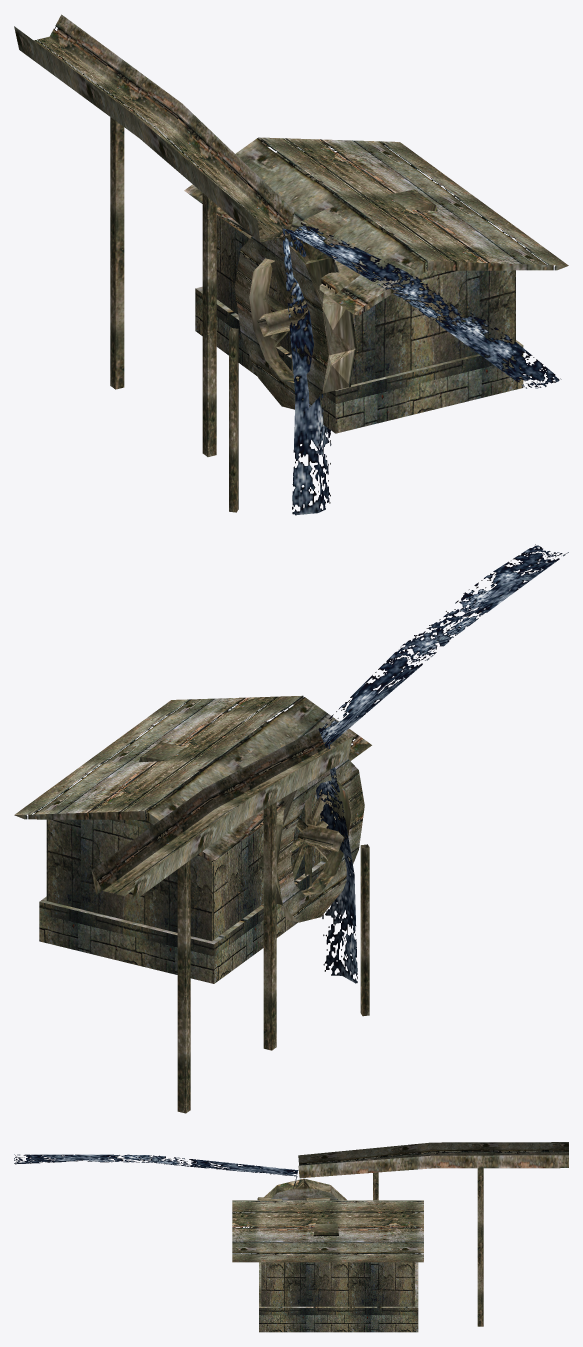
The model's file is House05.obj.
The picture shows the model from 3 angles, top to bottom: view 1: azimuth 30°, elevation 25°; view 2: azimuth 150°, elevation 25°; view 3: azimuth 270°, elevation 25°; orthographic projection. The views are drawn at different scales.
Parts seen in each view (by area): view 1: Mesh_0, Mesh_1, Mesh_2; view 2: Mesh_0, Mesh_1, Mesh_2; view 3: Mesh_0, Mesh_1, Mesh_2.
Part boxes in pixels (x1,y1,x2,y2): Mesh_0: [14, 14, 568, 512]; Mesh_1: [195, 152, 523, 433]; Mesh_2: [282, 223, 561, 515]; Mesh_0: [14, 695, 371, 1113]; Mesh_1: [39, 722, 332, 983]; Mesh_2: [316, 544, 568, 983]; Mesh_0: [232, 1142, 568, 1326]; Mesh_1: [259, 1212, 418, 1332]; Mesh_2: [14, 1154, 298, 1253].
Bounding box in the file's own units: 4.72 × 5.07 × 14.46.
3 materials, 3 textured.
